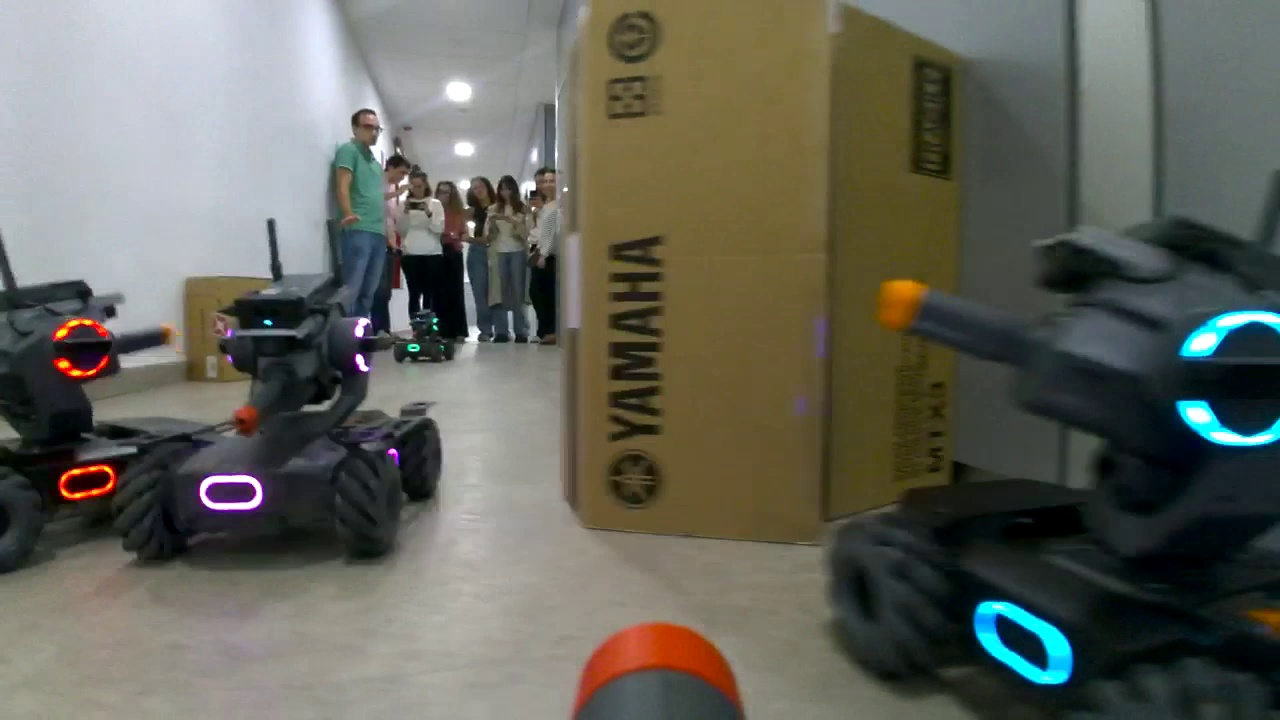robot: (829, 221, 1271, 708), (107, 266, 442, 568), (4, 282, 154, 571)
